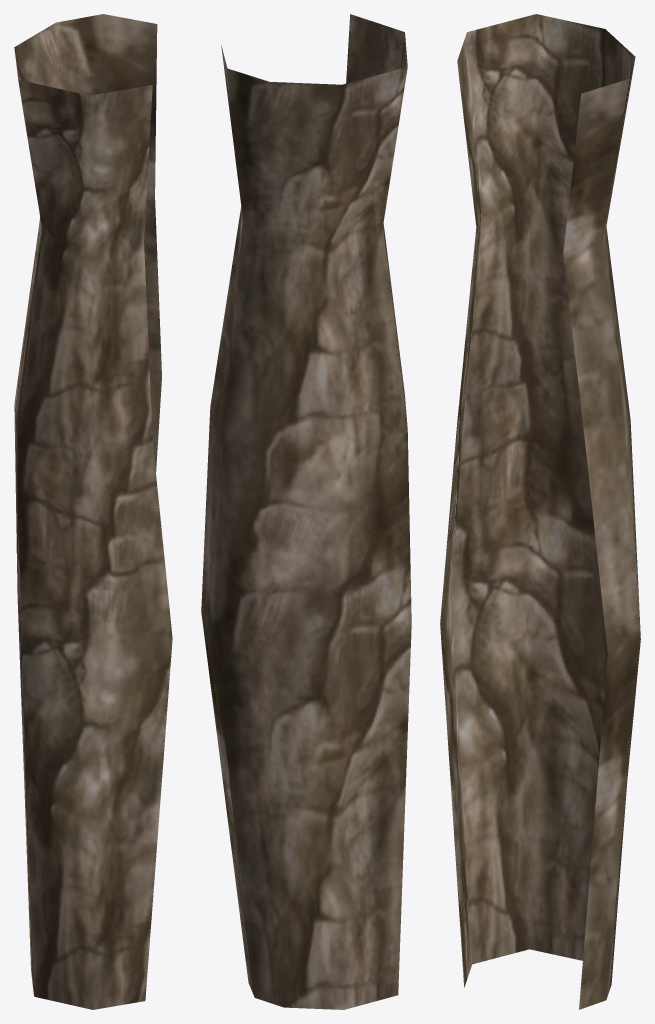
File: OVERHILL_A_01_LINE43.fbx
3 views of the same model, side by side, from view 1: azimuth 30°, elevation 25°; view 2: azimuth 150°, elevation 25°; view 3: azimuth 270°, elevation 25° (orthographic).
Parts seen in each view (by area): view 1: OVERHILL_A_01_LINE43; view 2: OVERHILL_A_01_LINE43; view 3: OVERHILL_A_01_LINE43.
Boxes of the visible parts, left/top/right/bottom form: OVERHILL_A_01_LINE43: left=14, top=14, right=172, bottom=1009; OVERHILL_A_01_LINE43: left=201, top=14, right=411, bottom=1009; OVERHILL_A_01_LINE43: left=440, top=14, right=640, bottom=1009.
Size of the model in its own units: 21021 by 109001 by 21346.
1 material, 1 textured.
